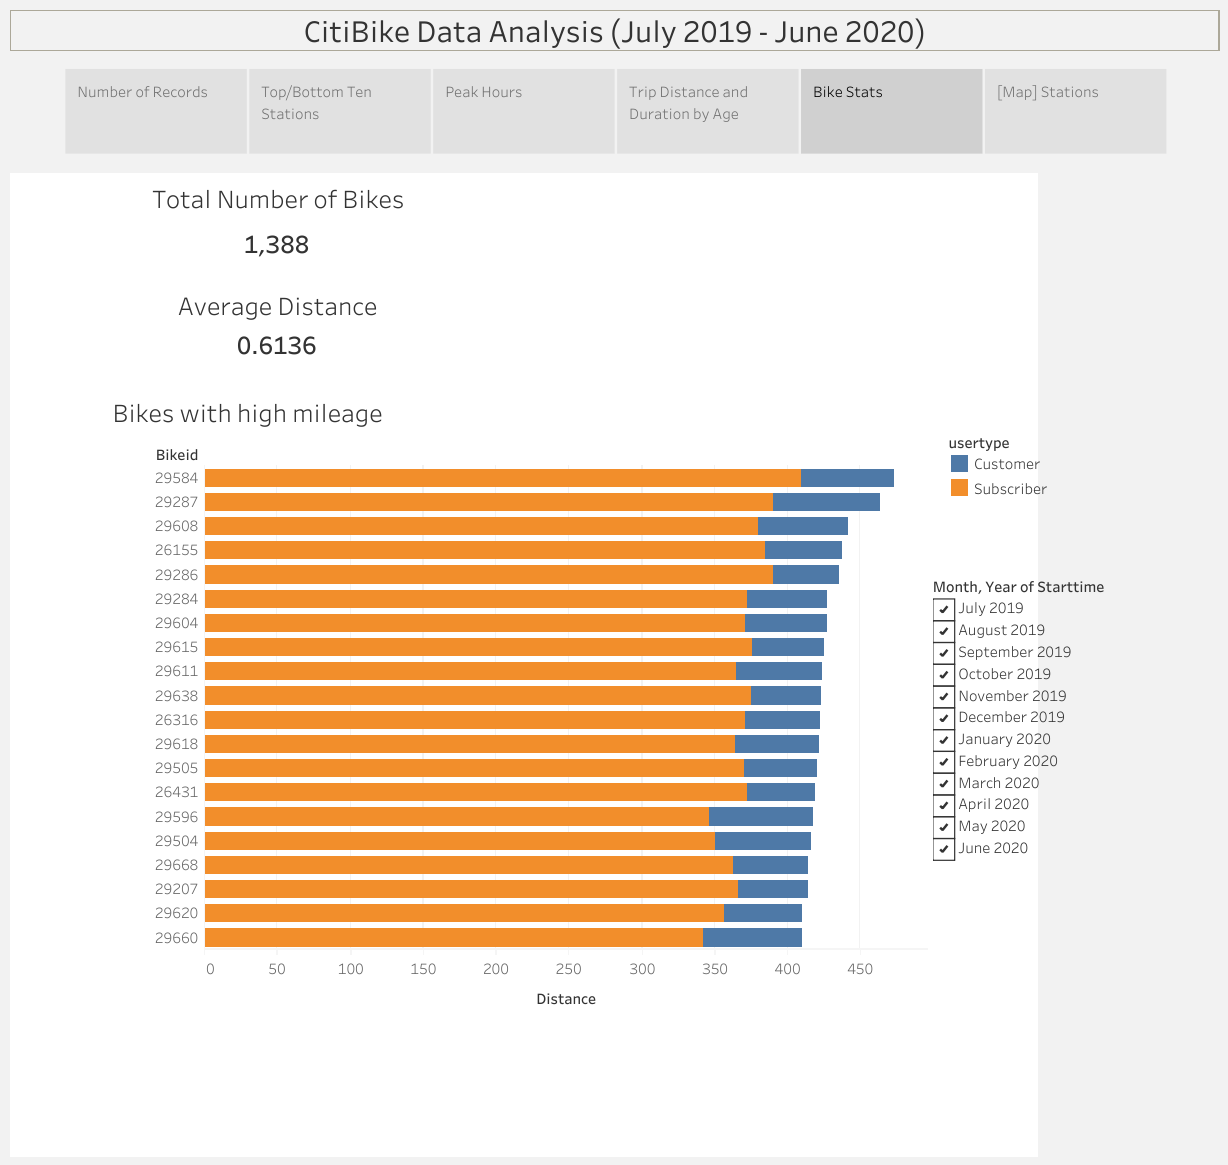

What the dashboard file says about the page in this screenshot:
{"tool":"tableau","page":{"name":"Bikes","canvas":[1000,1000],"units":"permille","ordinal":0},"visuals":[{"type":"worksheet","title":"Total Number of Bikes","mark":"Automatic","box":[12.9,11.7,332.9,100.4]},{"type":"worksheet","title":"Average Distance","mark":"Automatic","box":[14.1,110.9,327.1,107.4]},{"type":"worksheet","title":"Bikes High Mileage","mark":"Automatic","rows":["bikeid"],"cols":["Calculation_2171298008310095884"],"box":[7.1,234.5,787.1,724.6]},{"type":"legend","title":"Bikes High Mileage","param":"[federated.06t6mmk1ta8xqx1g6an2d0cdsx3z].[none:usertype:nk]","box":[817.6,306.9,164.7,67.7]},{"type":"filter","title":"Bikes High Mileage","param":"[federated.06t6mmk1ta8xqx1g6an2d0cdsx3z].[my:starttime:ok]","box":[797.6,397.9,197.7,346.6]}]}

Visuals, with their boxes on the dashboard's canvas, which has no fixed pixel size, in thousandths of its width and height (x1, y1, x2, y2). These are canvas units, not pixel positions in the 1228x1165 screenshot, which may show the page scaled, cropped or inside an application window:
"Total Number of Bikes" worksheet: (13, 12, 346, 112)
"Average Distance" worksheet: (14, 111, 341, 218)
"Bikes High Mileage" worksheet: (7, 234, 794, 959)
"Bikes High Mileage" legend: (818, 307, 982, 375)
"Bikes High Mileage" filter: (798, 398, 995, 744)
